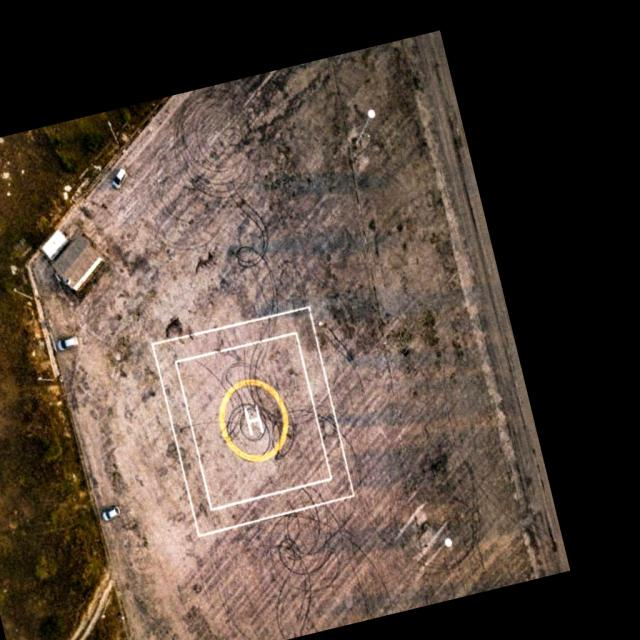helipad: (213, 375, 291, 465)
